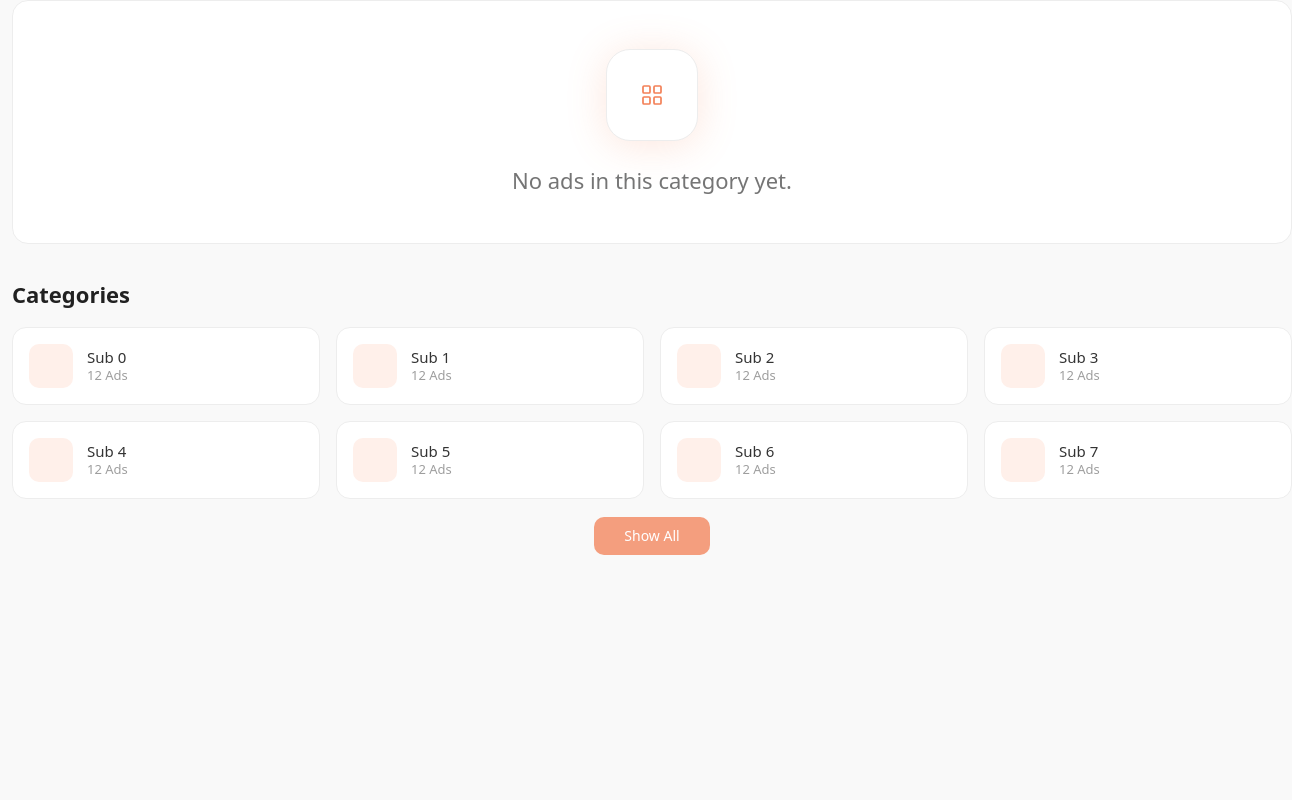
Test case: CategoryHub › lists two rows of four tiles and reveals the rest on "Show All"
Click the button "Show All": (652, 536) [594,517,710,555]
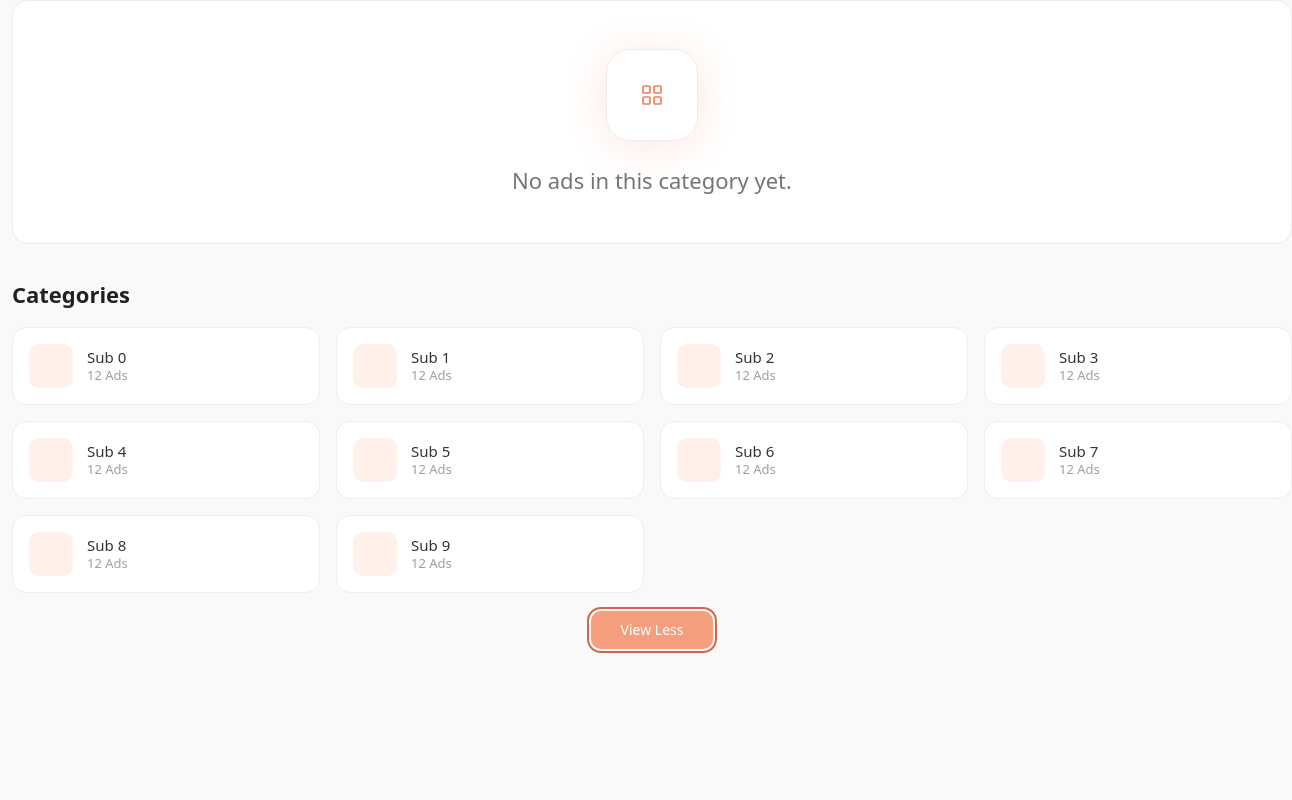
Check: the number of links "Sub 0 12 Ads" is 10
Check: the button "View Less" is expanded, box [590,611,713,649]
